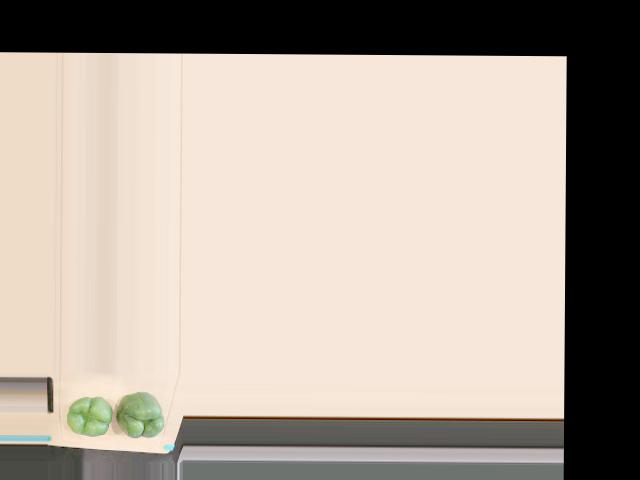bell_pepper: (67, 390, 114, 437)
